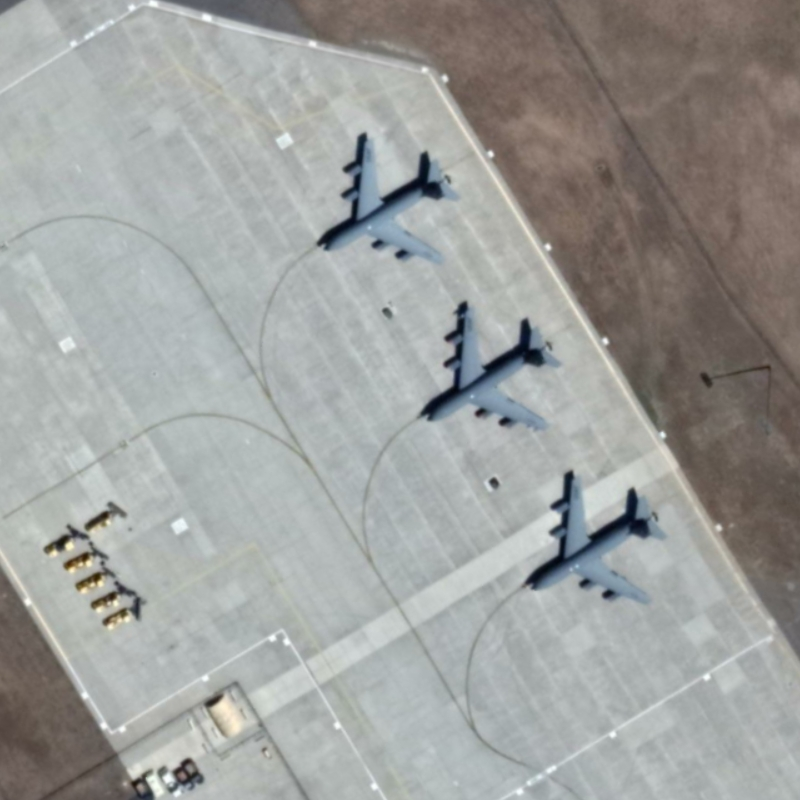A14: (518, 465, 682, 613), (308, 123, 466, 275), (421, 294, 573, 438)
